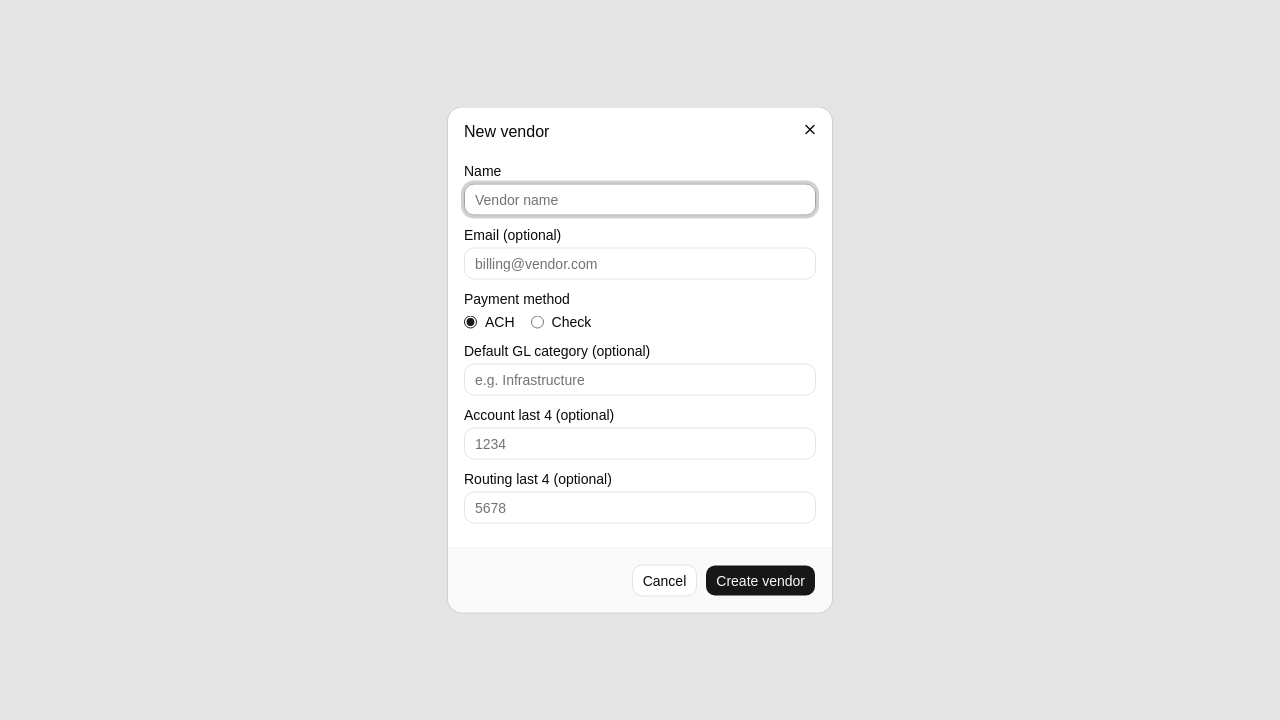
AddVendorDialog › shows mailing address field and hides ACH fields when Check is selected
Click the radio button labelled "Check". click: x=537, y=322
box: 531,315 -> 544,328
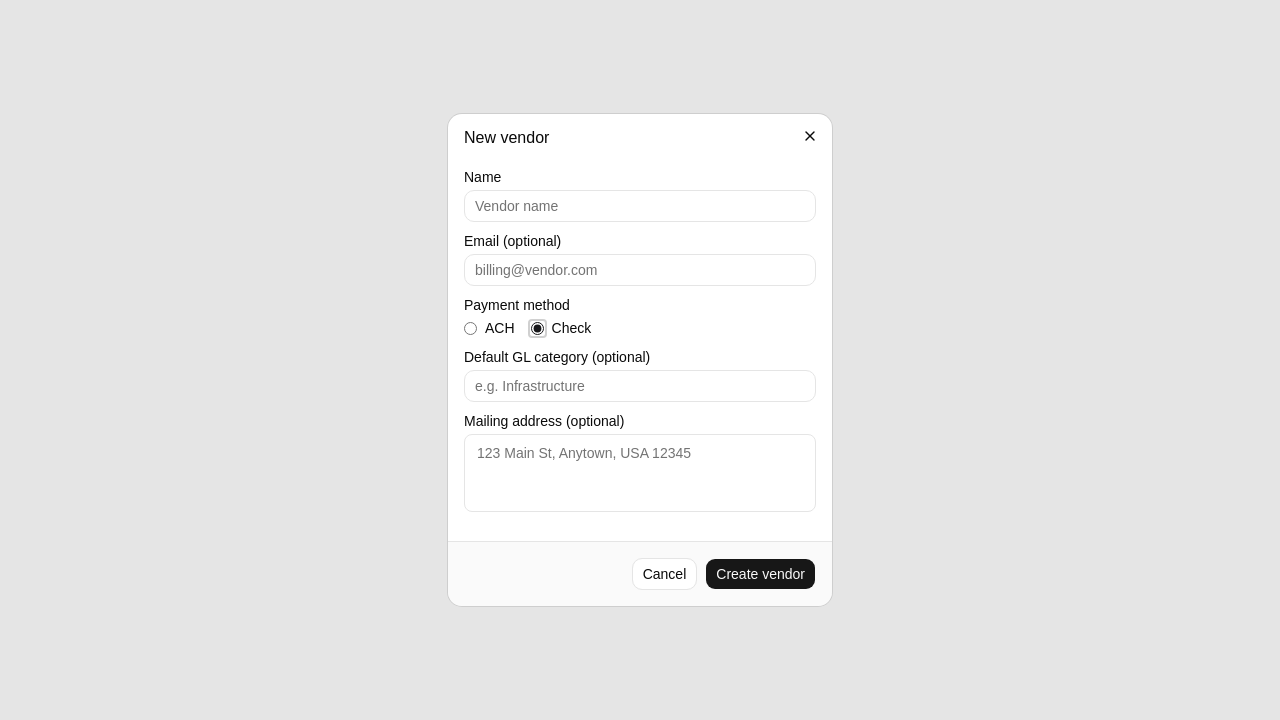
Now the text box with placeholder "123 Main St, Anytown, USA 12345" is shown, box 464,434 -> 816,512
